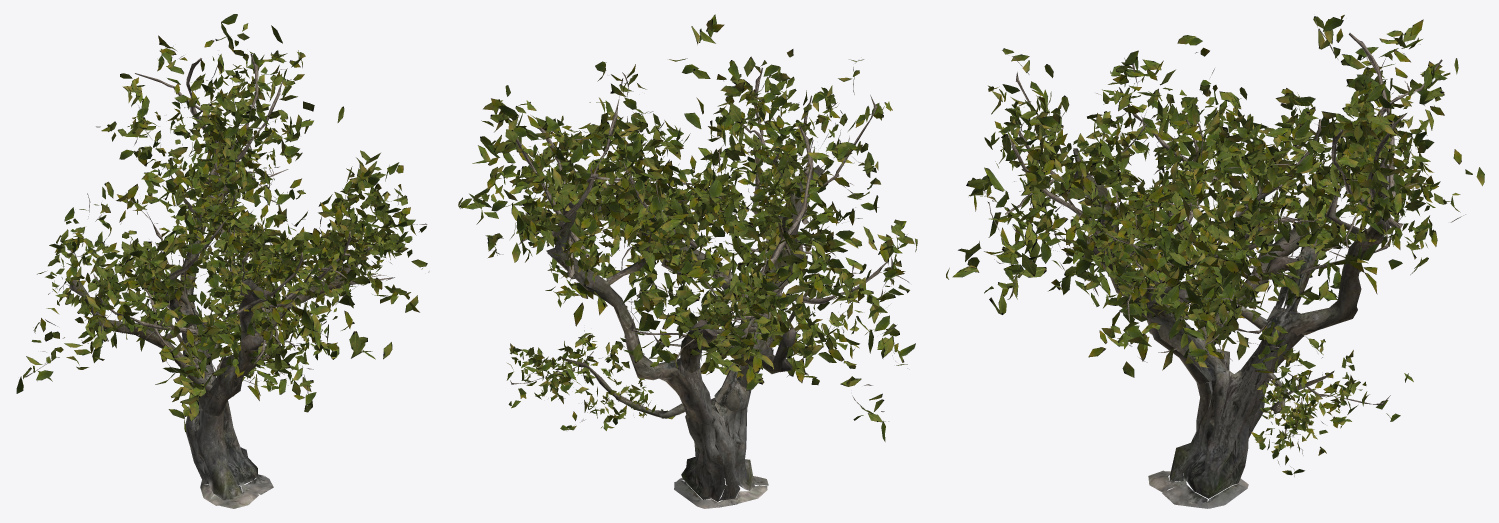
The model's file is tree_round.glb.
The picture shows the model from 3 angles, left to right: view 1: azimuth 30°, elevation 25°; view 2: azimuth 150°, elevation 25°; view 3: azimuth 270°, elevation 25°; orthographic projection. The views are drawn at different scales.
Parts seen in each view (by area): view 1: tree_round; view 2: tree_round; view 3: tree_round.
Boxes of the visible parts, x1,y1,x2,y2 form: tree_round: (16, 14, 429, 508); tree_round: (458, 14, 917, 508); tree_round: (946, 15, 1484, 508).
Size of the model in its own units: 4.03 by 4.18 by 4.07.
Materials: 3 (3 with a texture image).
